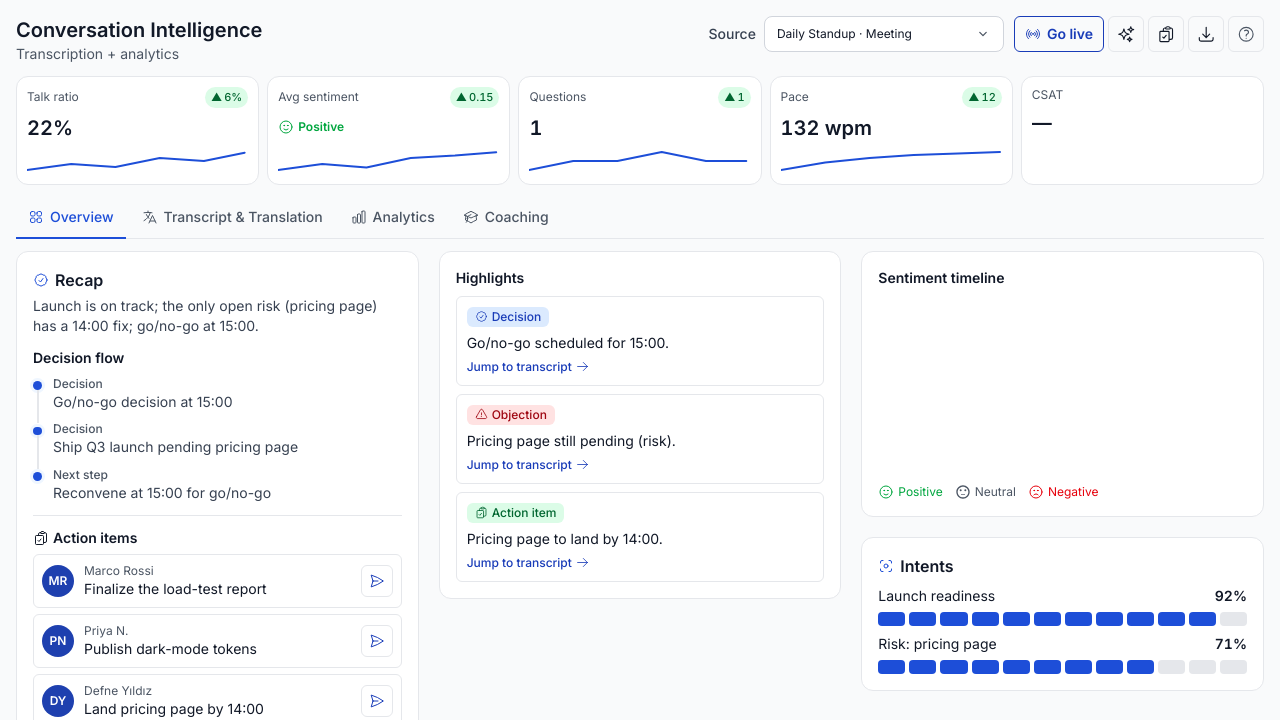
Test: IntelligenceDashboard › help button reopens the tour
Click the button named "Take the tour" at (1246, 34), box [1228,16,1264,52]
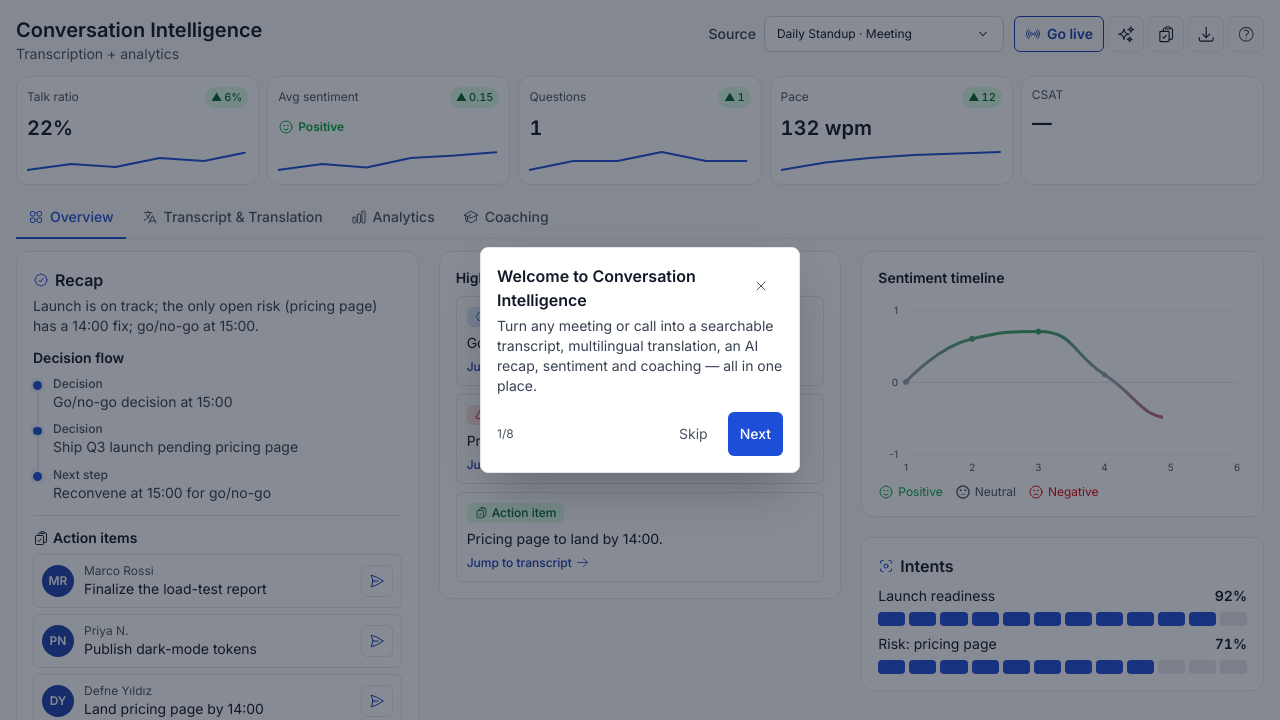
Now the heading "Welcome to Conversation Intelligence" is shown, box [497,266,696,310]
